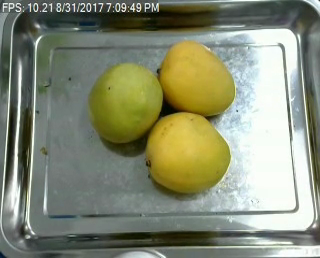Mango: (144, 113, 229, 191), (86, 62, 162, 144), (156, 41, 235, 115)
